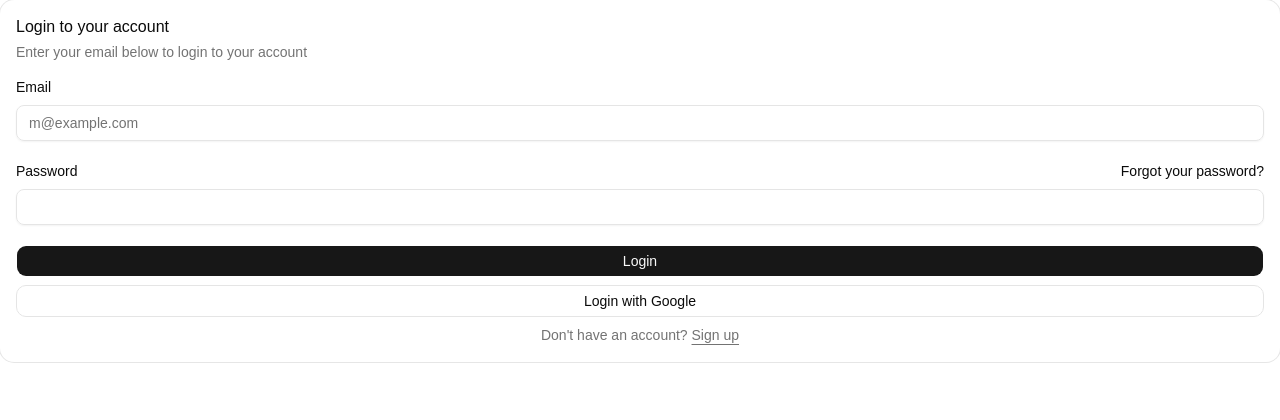
it: LoginForm › clears previous error on a new submit attempt
Step 1. Type "test@example.com" into the field labelled "Email" → (640, 123), box [16,105,1264,141]
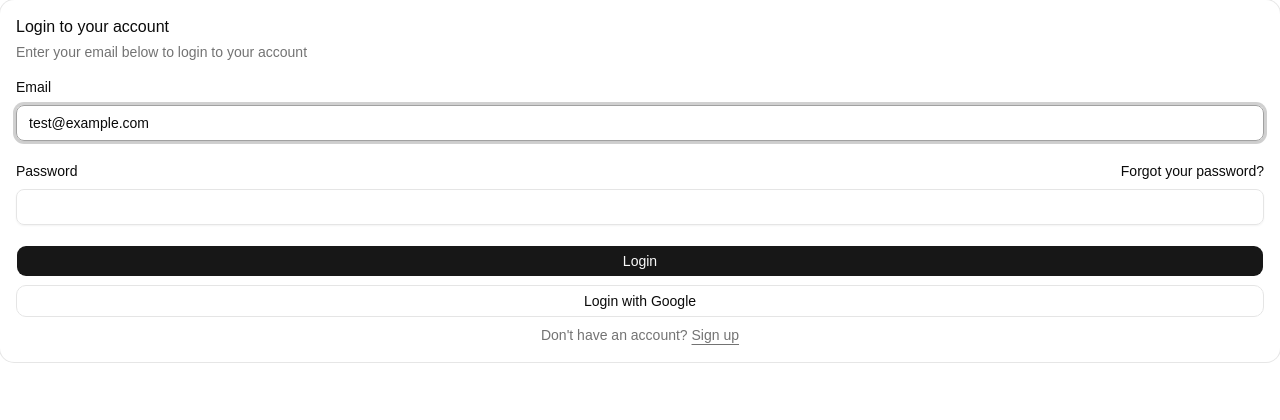
Step 2. Type "wrongpass" into the password field labelled "Password" → (640, 207), box [16,189,1264,225]
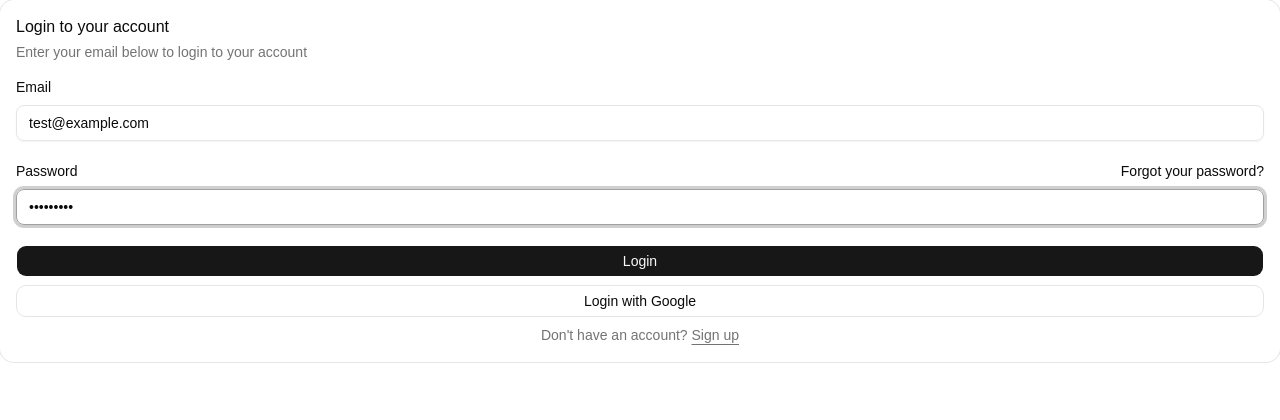
Step 3. Click the button "Login" → (640, 261), box [16,245,1264,277]
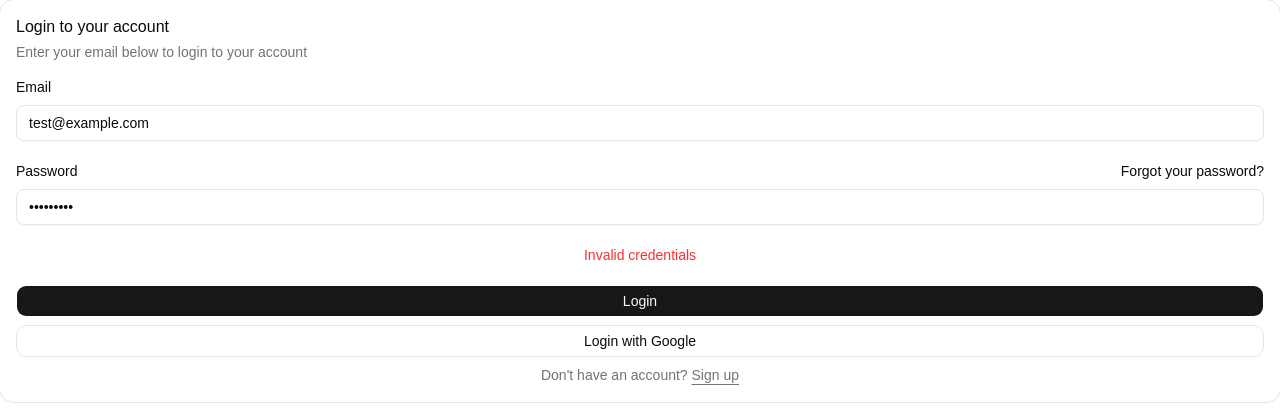
Expected: the text "Invalid credentials" is shown, [584,247,696,263]
Step 4. Type "correctpass" into the password field labelled "Password" → (640, 207), box [16,189,1264,225]
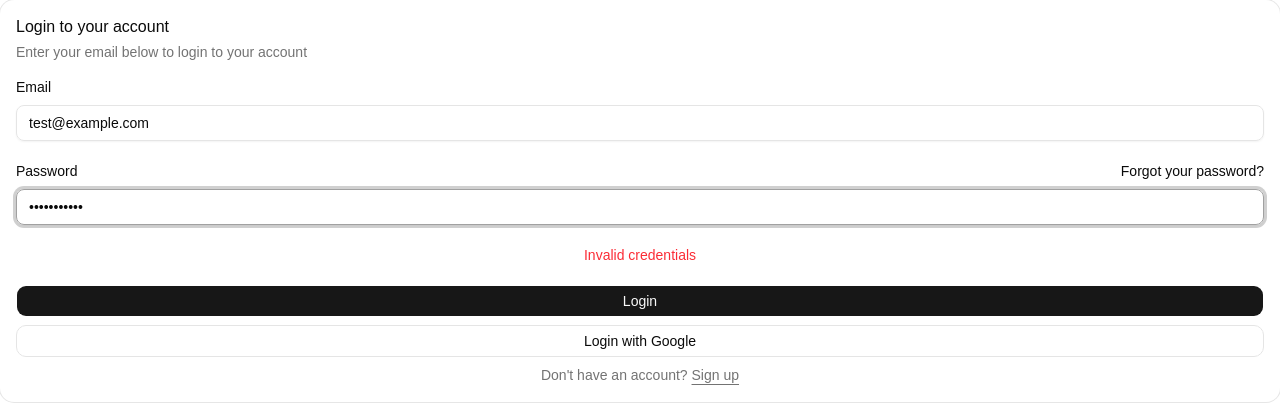
Step 5. Click the button "Login" → (640, 301), box [16,285,1264,317]
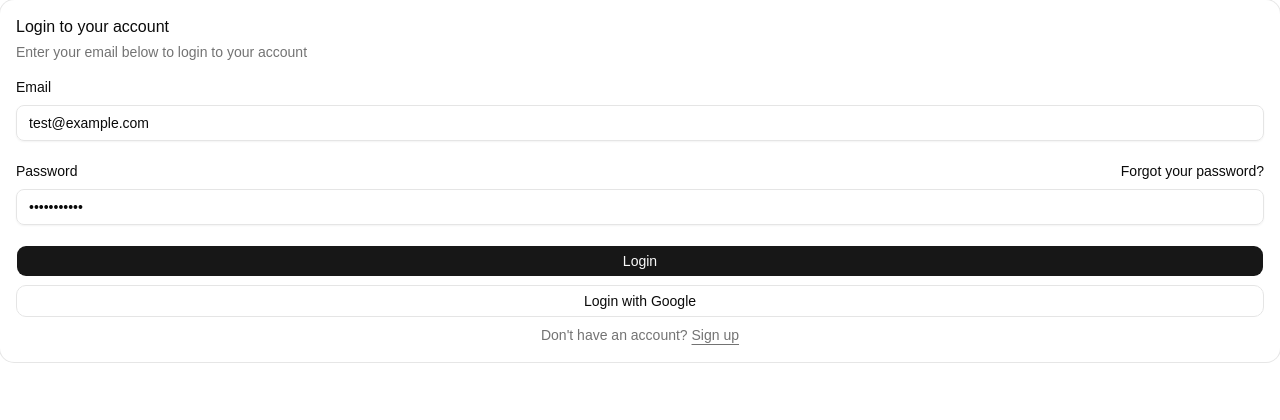
Expected: the text "Invalid credentials" is gone
